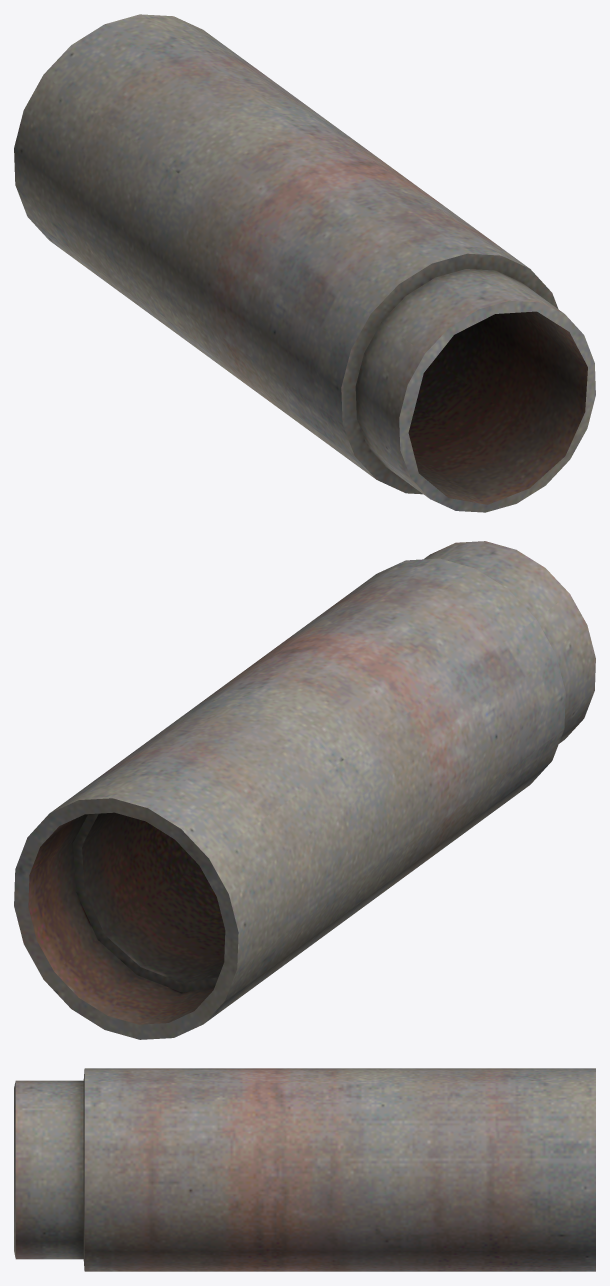
File: construction.013_construction_assets_0.003_lev3.glb
3 renders of one model, top to bottom at view 1: azimuth 30°, elevation 25°; view 2: azimuth 150°, elevation 25°; view 3: azimuth 270°, elevation 25°, orthographic. The views are drawn at different scales.
Parts seen in each view (by area): view 1: construction.013_construction_assets_0.003_lev3; view 2: construction.013_construction_assets_0.003_lev3; view 3: construction.013_construction_assets_0.003_lev3.
Boxes of the visible parts, x1,y1,x2,y2 form: construction.013_construction_assets_0.003_lev3: [14, 14, 595, 512]; construction.013_construction_assets_0.003_lev3: [14, 541, 595, 1039]; construction.013_construction_assets_0.003_lev3: [14, 1068, 595, 1271].
Bounding box in the file's own units: 3.51 × 3.5 × 10.07.
Materials: 1 (1 with a texture image).
